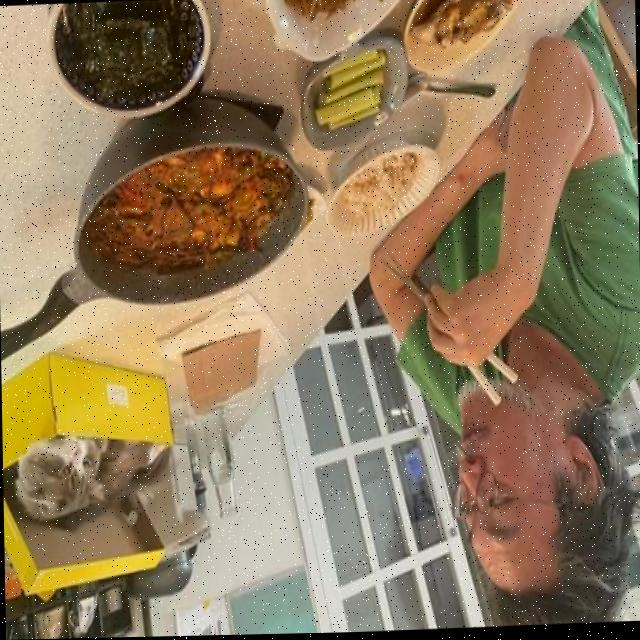eating-person: (316, 0, 640, 633)
